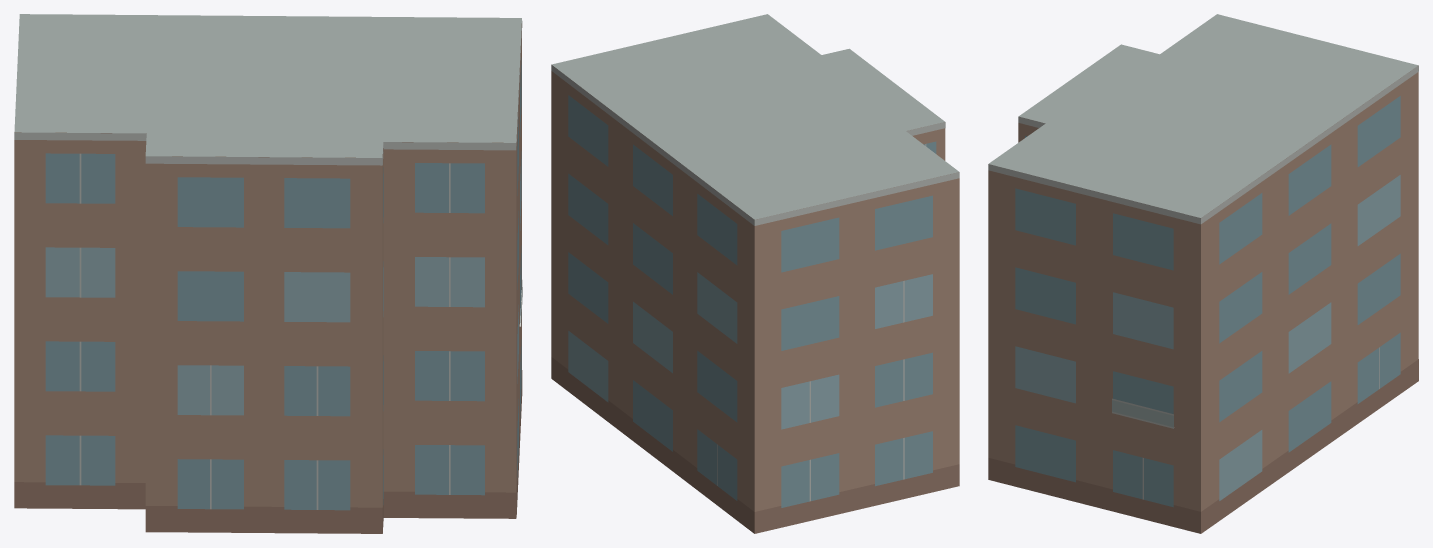
The model's file is residential-86c50c06-dbac-48df-a90e-b325c2af355f.glb.
The picture shows the model from 3 angles, left to right: view 1: azimuth 30°, elevation 25°; view 2: azimuth 150°, elevation 25°; view 3: azimuth 270°, elevation 25°; orthographic projection. The views are drawn at different scales.
Parts seen in each view (by area): view 1: residential-86c50c06-dbac-48df-a90e-b325c2af355f.tmp; view 2: residential-86c50c06-dbac-48df-a90e-b325c2af355f.tmp; view 3: residential-86c50c06-dbac-48df-a90e-b325c2af355f.tmp.
Boxes of the visible parts, box(x1,y1,x2,y2) form: residential-86c50c06-dbac-48df-a90e-b325c2af355f.tmp: box(14, 14, 522, 533); residential-86c50c06-dbac-48df-a90e-b325c2af355f.tmp: box(551, 14, 959, 533); residential-86c50c06-dbac-48df-a90e-b325c2af355f.tmp: box(988, 14, 1418, 533).
Size of the model in its own units: 16.92 by 12.2 by 15.08.
